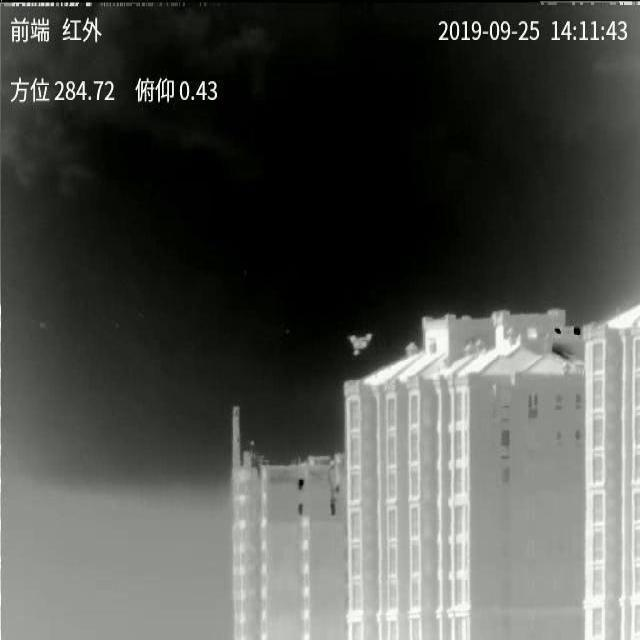drone: (347, 333, 372, 356)
